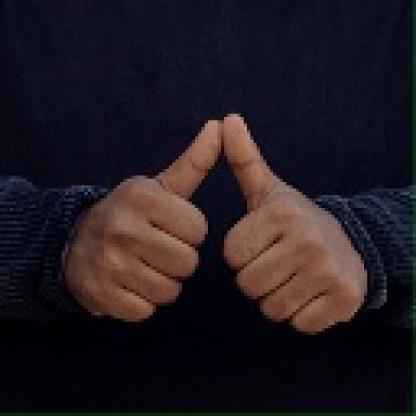A: (60, 110, 378, 334)
